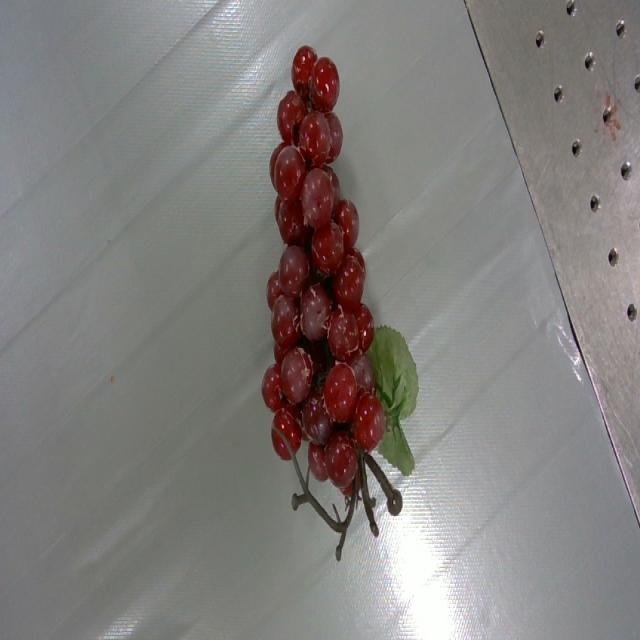grape: (261, 46, 419, 560)
